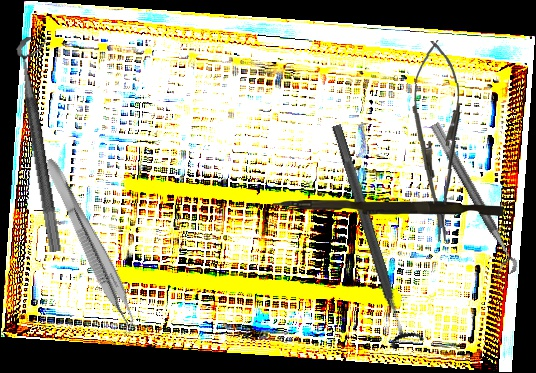Fixation Ring: (319, 119, 426, 351), (416, 121, 522, 281), (14, 34, 80, 253)
Needle Holder: (409, 39, 466, 243)
Pusher: (273, 200, 503, 216)
Tissue Forceps: (33, 155, 147, 338)
